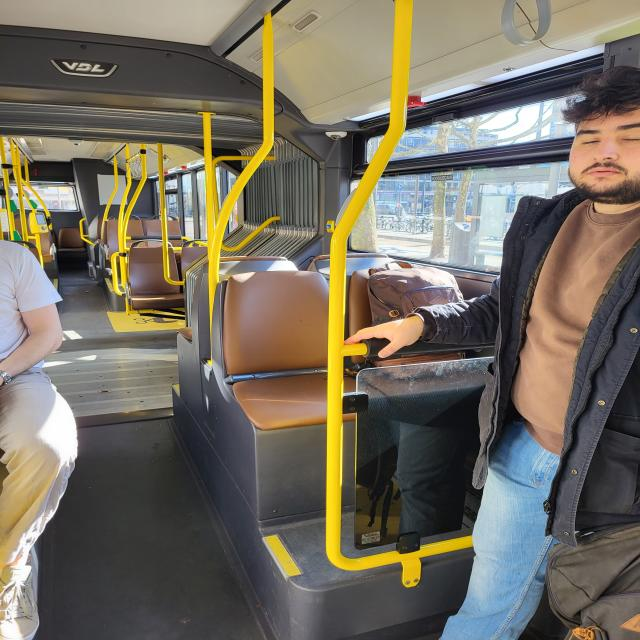empty-seat-frontal: (220, 268, 373, 435), (122, 236, 188, 310), (56, 228, 86, 259)
